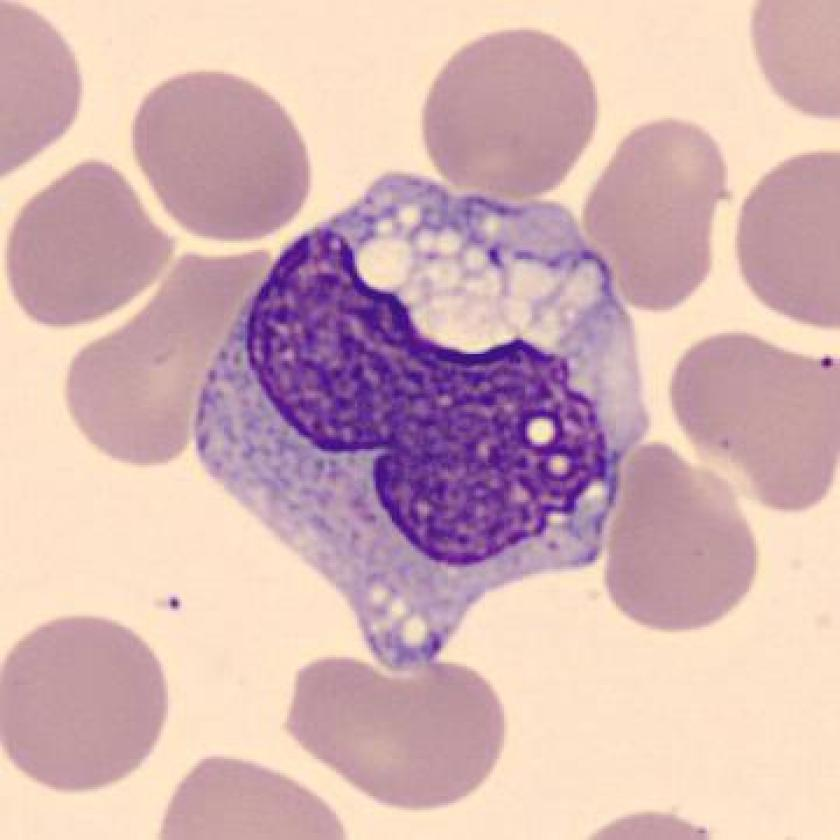monocyte: (183, 154, 657, 691)
